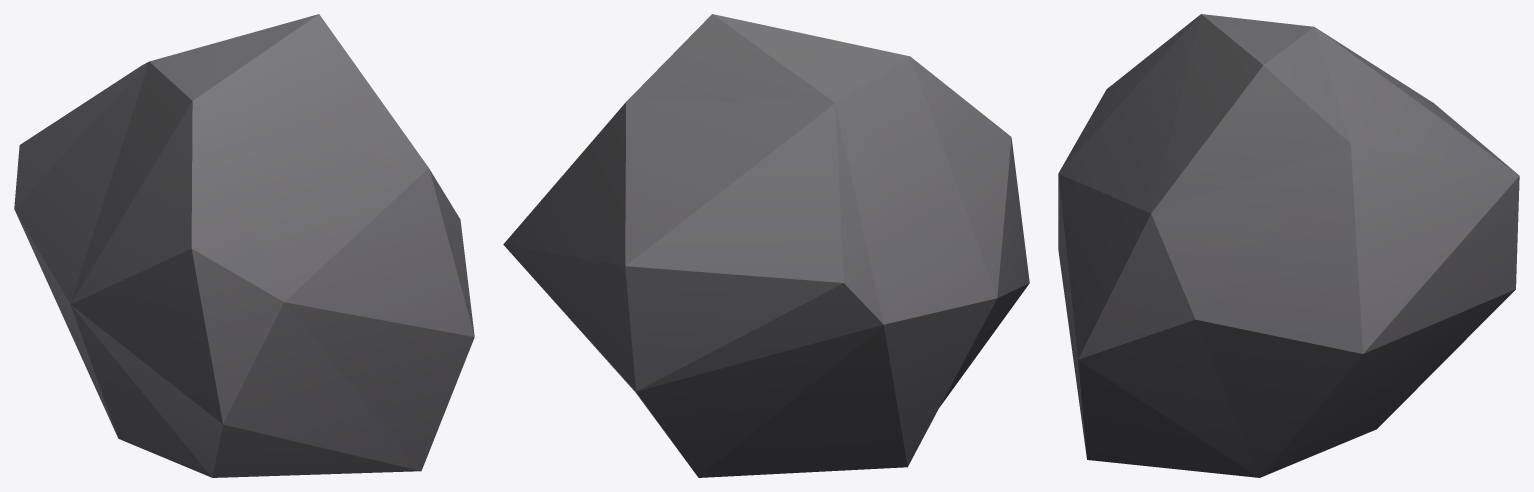
Rendered from Mesh_Nature_Rock_01.FBX.
3 renders of one model, left to right at view 1: azimuth 30°, elevation 25°; view 2: azimuth 150°, elevation 25°; view 3: azimuth 270°, elevation 25°, orthographic. The views are drawn at different scales.
Visible parts, largest first — view 1: Mesh_Nature_Rock_01; view 2: Mesh_Nature_Rock_01; view 3: Mesh_Nature_Rock_01.
Boxes of the visible parts, x1,y1,x2,y2 form: Mesh_Nature_Rock_01: (14,14,474,477); Mesh_Nature_Rock_01: (503,14,1029,477); Mesh_Nature_Rock_01: (1058,14,1519,477).
Size of what is drawn, in the model's own units: 79.82 by 78.88 by 73.32.
